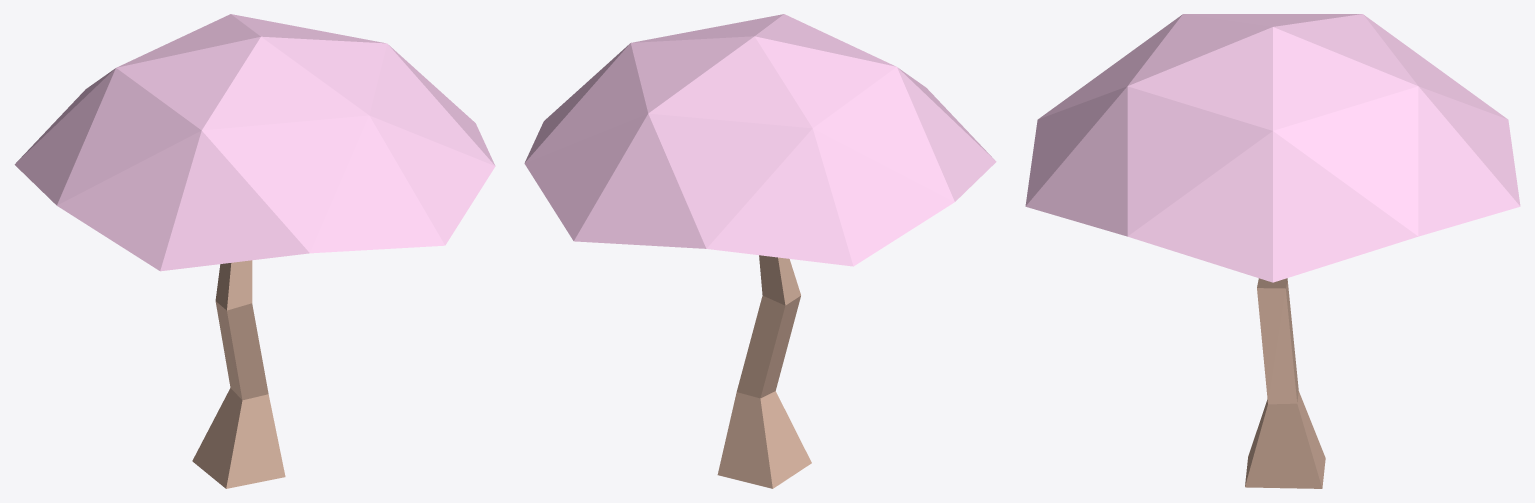
The model's file is Big Tree.fbx.
3 renders of one model, left to right at view 1: azimuth 30°, elevation 25°; view 2: azimuth 150°, elevation 25°; view 3: azimuth 270°, elevation 25°, orthographic. The views are drawn at different scales.
Visible parts, largest first — view 1: Big Tree; view 2: Big Tree; view 3: Big Tree.
Boxes of the visible parts, left/top/right/bottom form: Big Tree: left=14, top=14, right=495, bottom=488; Big Tree: left=524, top=14, right=996, bottom=488; Big Tree: left=1025, top=14, right=1520, bottom=488.
Bounding box in the file's own units: 33500 × 33107 × 32660.
